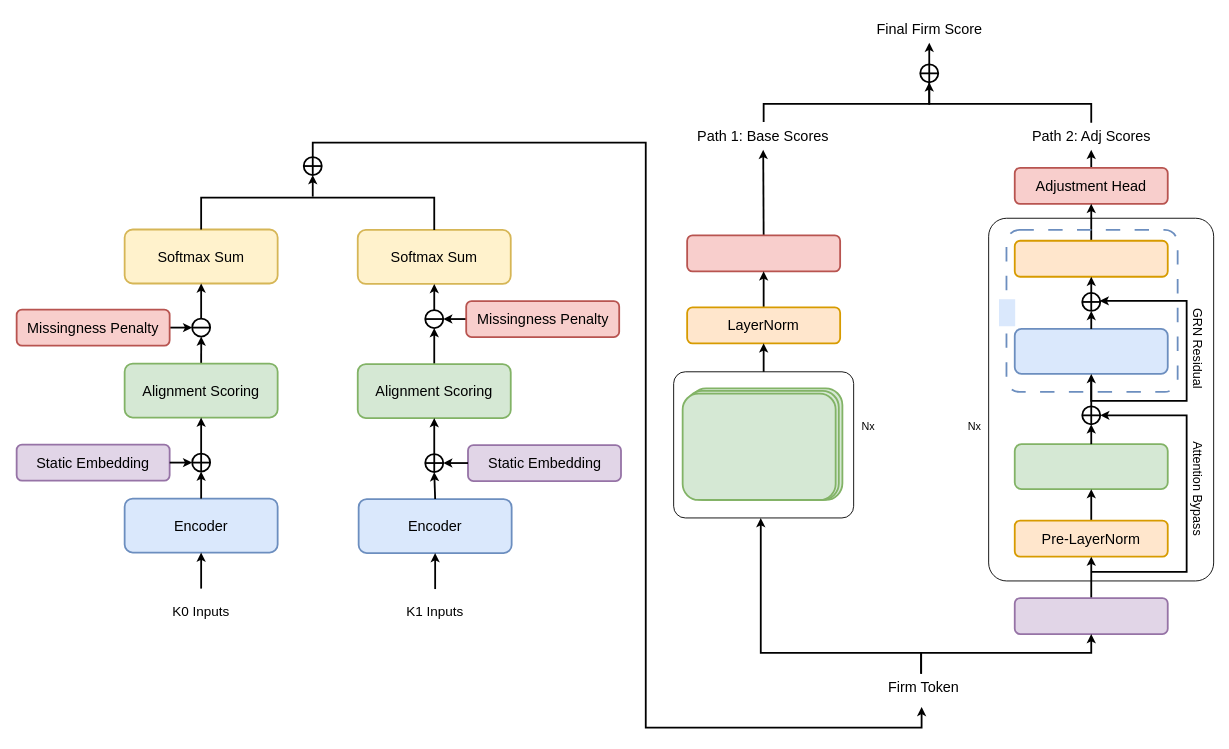
Image size: 1229x749. Some labels were removed from this diagram. Each missing label, with the centre of its shape:
"Firm Score Head" belongs at [763,253].
"Gating Branch" belongs at [1090,351].
"GRN" belongs at [1007,312].
"Mask by Country ID" belongs at [1090,615].
"Multi-Head Attention" belongs at [1090,466].
"Multi-Layer Perceptron (Per-firm)" belongs at [758,446].
"Post-GRN LayerNorm" belongs at [1090,258].
